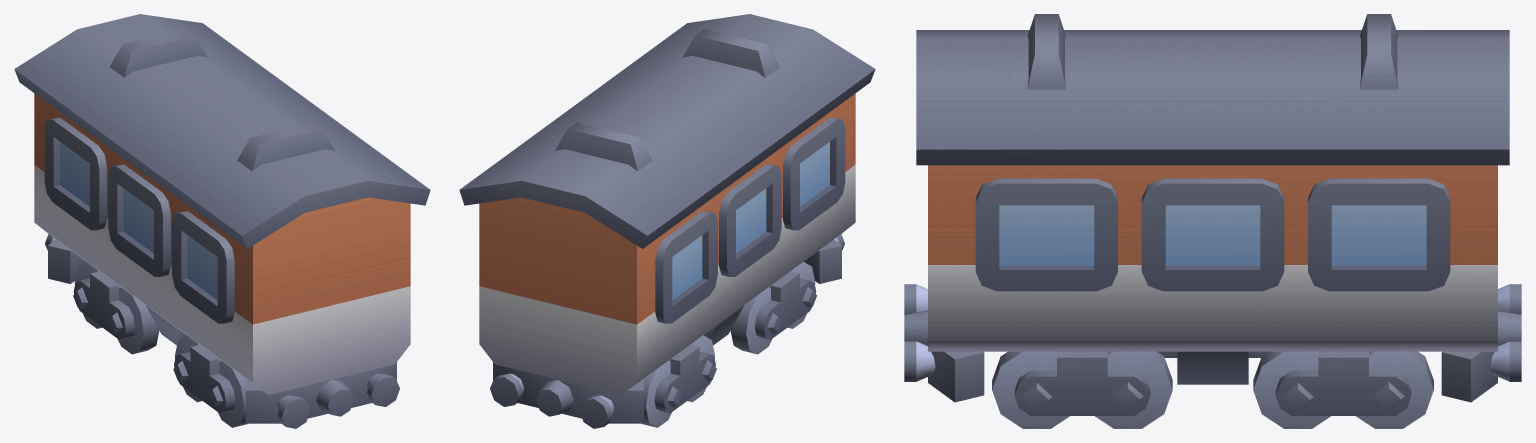
File: train-locomotive-passenger-a.glb
3 views of the same model, side by side, from view 1: azimuth 30°, elevation 25°; view 2: azimuth 150°, elevation 25°; view 3: azimuth 270°, elevation 25° (orthographic). The views are drawn at different scales.
Visible parts, largest first — view 1: train-locomotive-passenger-a, wheels-back, wheels-front; view 2: train-locomotive-passenger-a, wheels-front, wheels-back; view 3: train-locomotive-passenger-a, wheels-back, wheels-front.
Boxes of the visible parts, <box> form: train-locomotive-passenger-a: <box>14,14,430,428</box>; wheels-back: <box>73,262,159,354</box>; wheels-front: <box>173,335,247,427</box>; train-locomotive-passenger-a: <box>459,14,875,428</box>; wheels-front: <box>730,262,816,354</box>; wheels-back: <box>642,335,716,427</box>; train-locomotive-passenger-a: <box>904,14,1521,402</box>; wheels-back: <box>1253,351,1433,428</box>; wheels-front: <box>992,351,1172,428</box>.
Bounding box in the file's own units: 1.19 × 1.65 × 2.6.
Materials: 1 (1 with a texture image).
